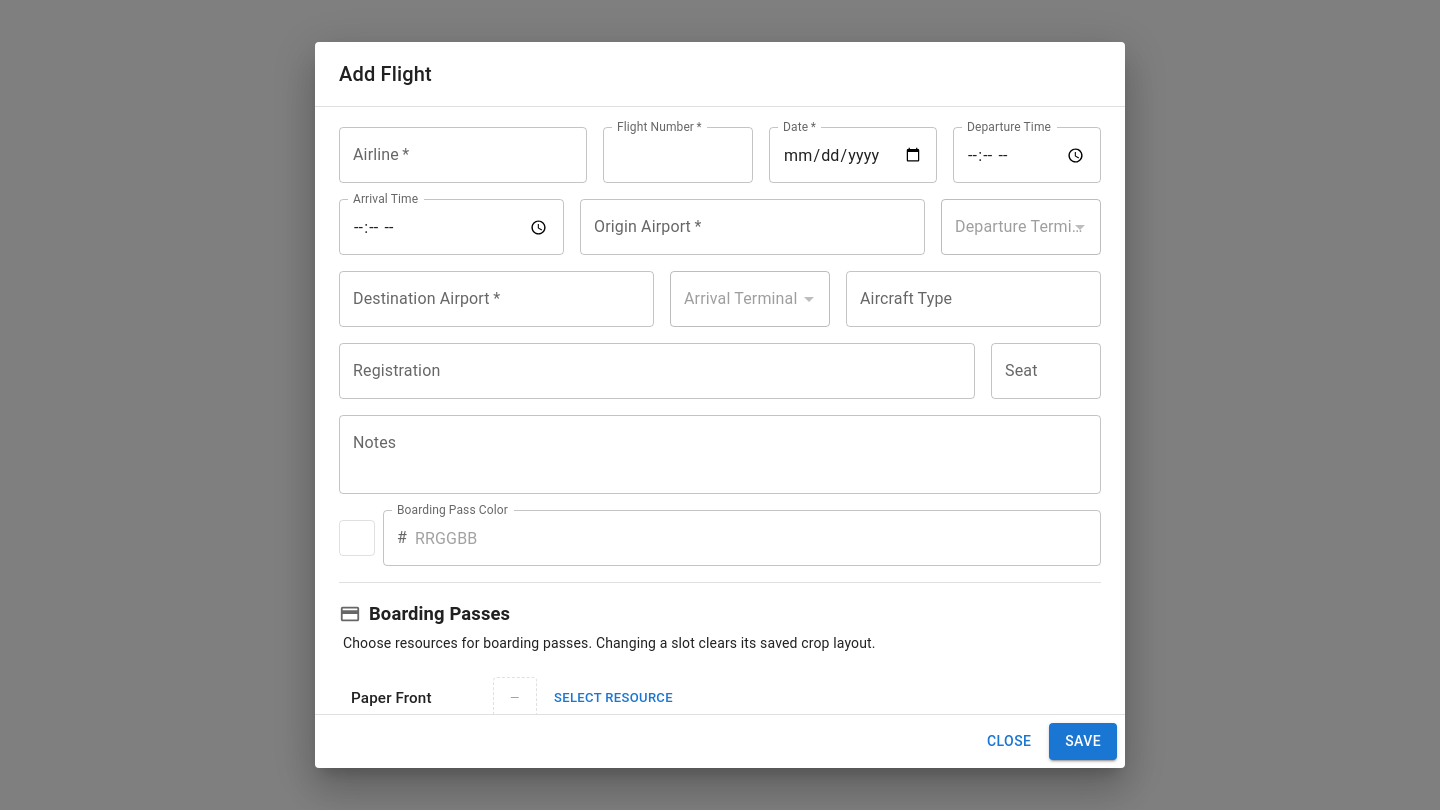
Test: FlightDialog submission validation › filters catalog aircraft options and stores the selected ICAO designator
Type "a3" into the dropdown labelled "Aircraft Type" at (974,299), box left=855, top=280, right=1092, bottom=318
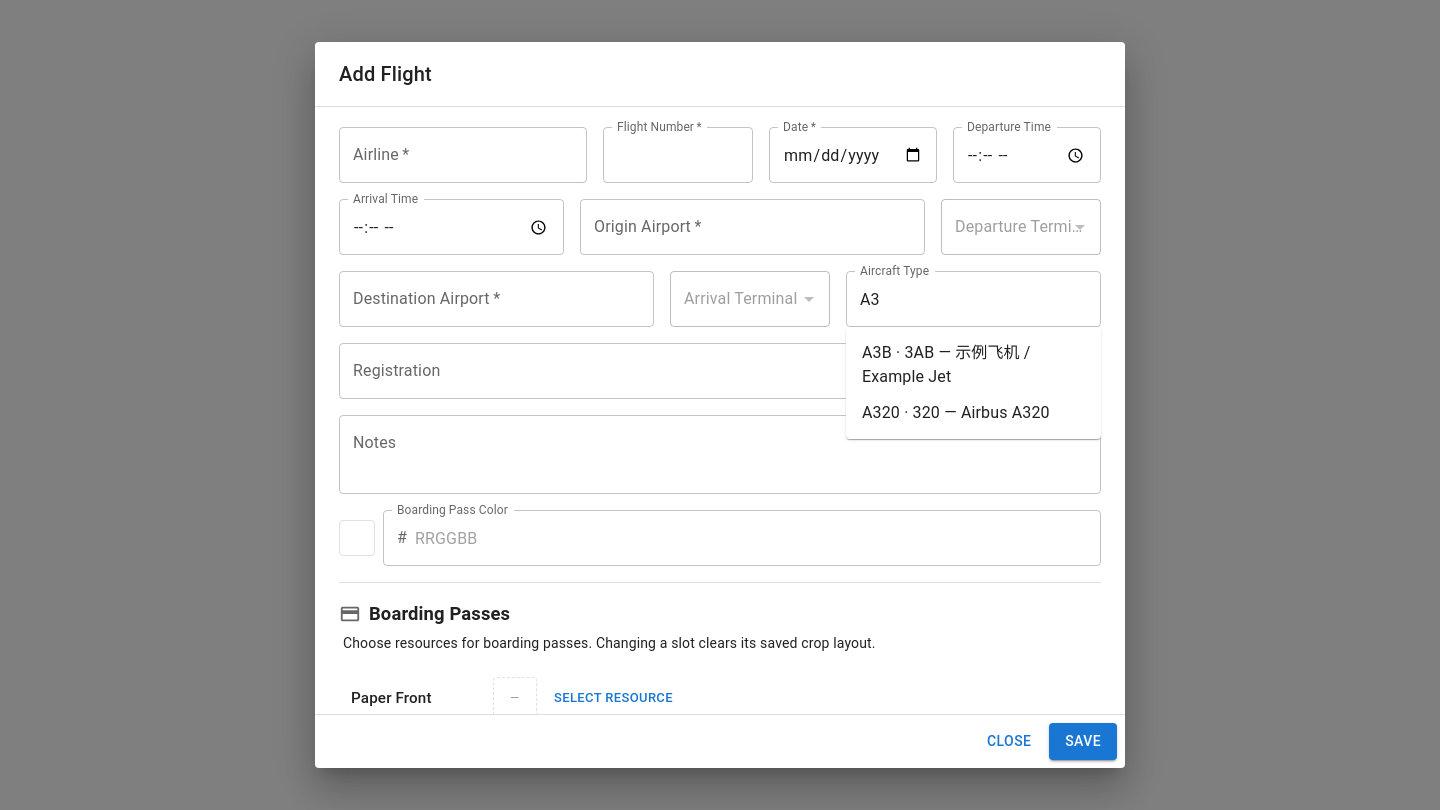
Click the option "A3B · 3AB — 示例飞机 / Example Jet" at (946,364), box left=862, top=343, right=1031, bottom=386
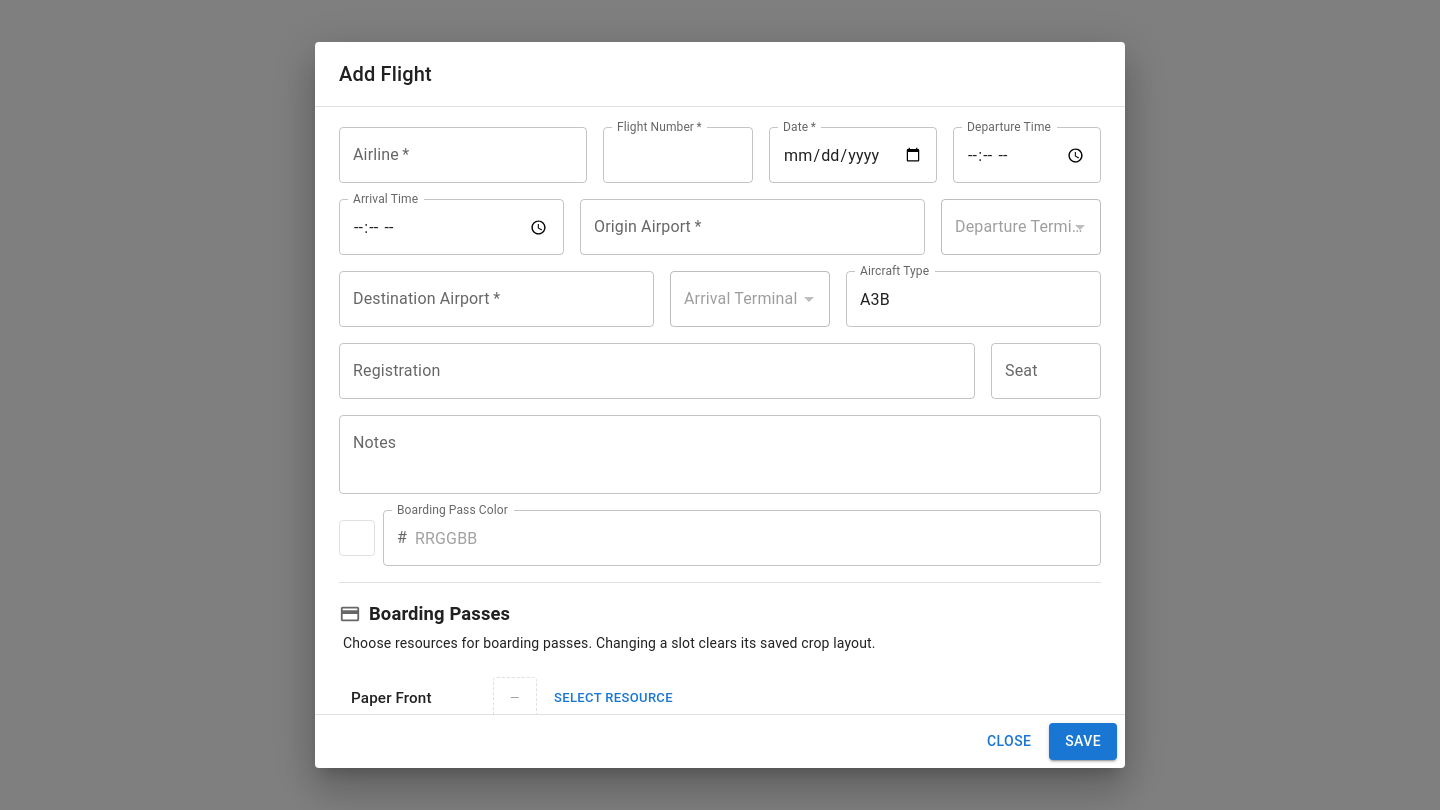
Expected: the dropdown labelled "Aircraft Type" holds "A3B", left=855, top=280, right=1062, bottom=318
